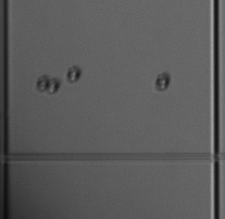Dead Cell: (154, 72, 171, 92), (66, 66, 82, 83), (46, 77, 59, 95), (34, 75, 48, 91)
